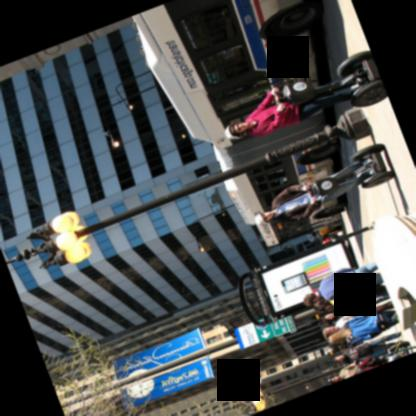handbag: (355, 356, 384, 371), (351, 287, 372, 302)
